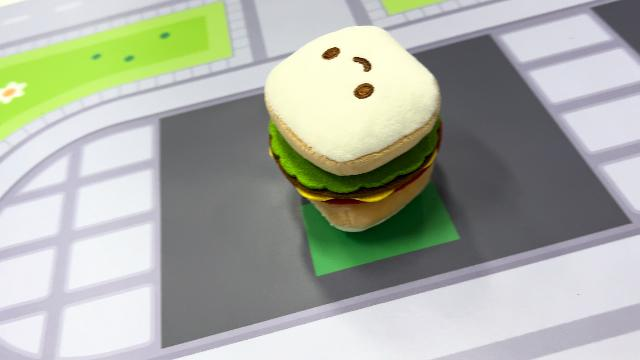sandwich: (260, 22, 446, 234)
